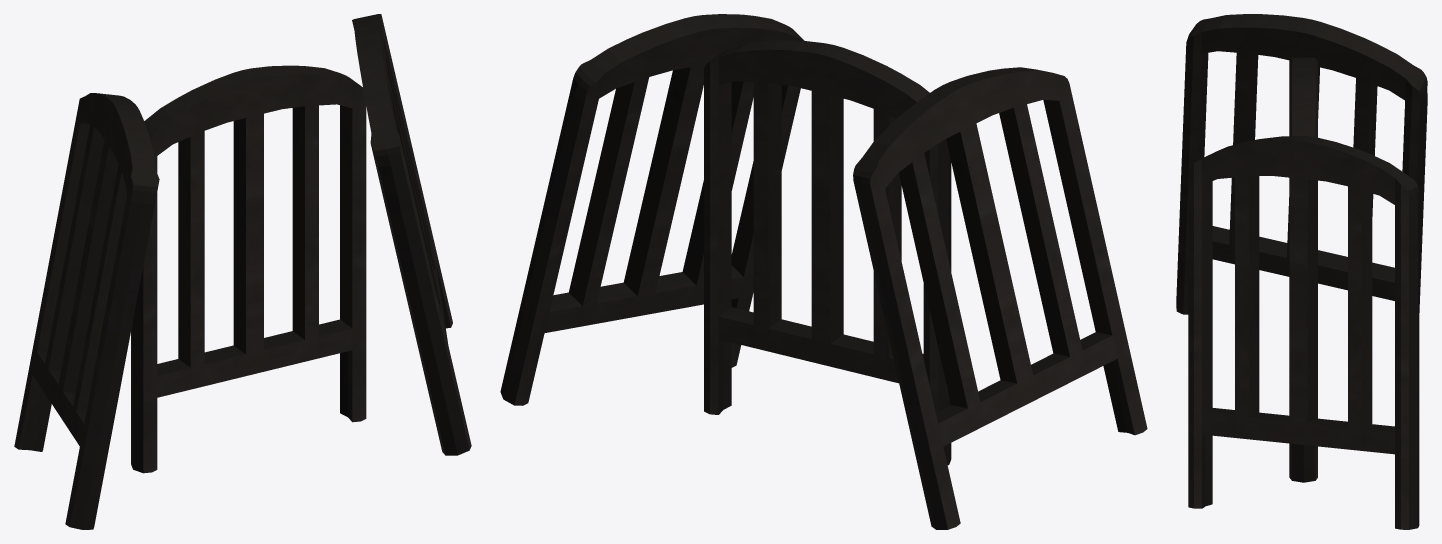
File: VallasAcumuladas.fbx
3 renders of one model, left to right at view 1: azimuth 30°, elevation 25°; view 2: azimuth 150°, elevation 25°; view 3: azimuth 270°, elevation 25°, orthographic. The views are drawn at different scales.
Parts seen in each view (by area): view 1: VallaAcumulada1; view 2: VallaAcumulada1; view 3: VallaAcumulada1.
Part boxes in pixels (x1,y1,x2,y2): VallaAcumulada1: (14,14,471,529); VallaAcumulada1: (500,14,1147,529); VallaAcumulada1: (1176,14,1427,529).
Bounding box in the file's own units: 331 × 238 × 152.
1 material, 1 textured.
